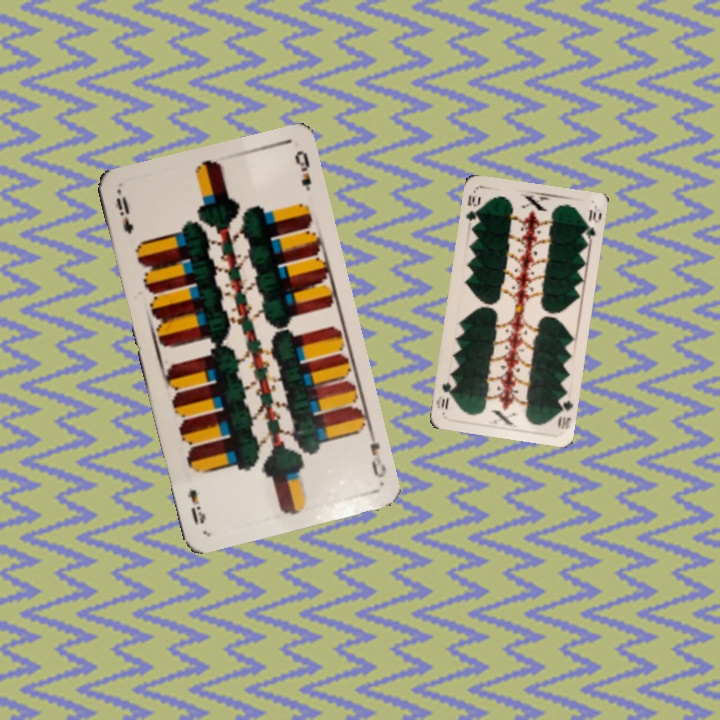E9: (365, 426, 389, 481), (112, 190, 136, 237)
G10: (554, 391, 575, 432), (462, 191, 483, 223)
